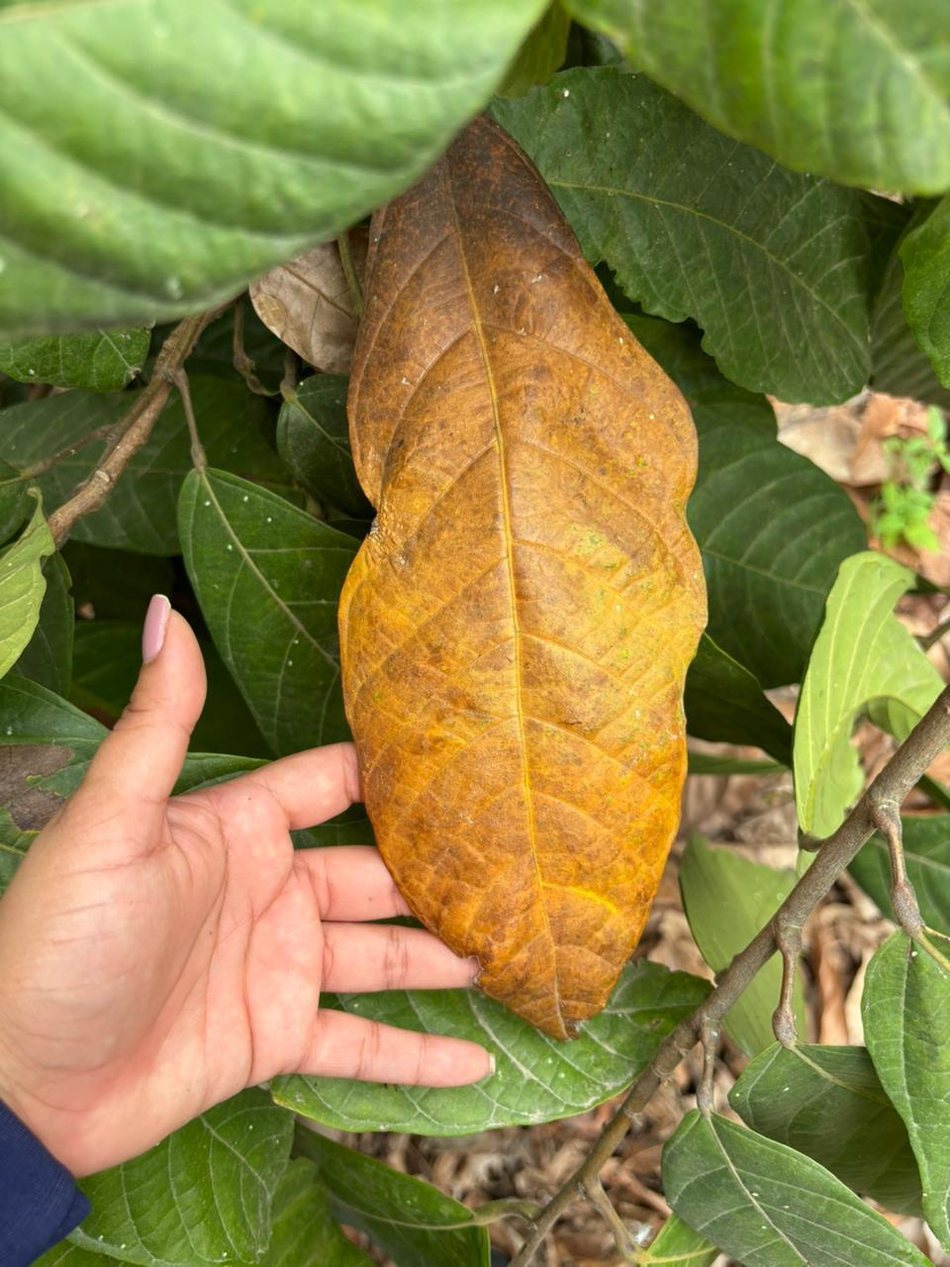deficienciia_fosforo: (339, 118, 705, 1038)
